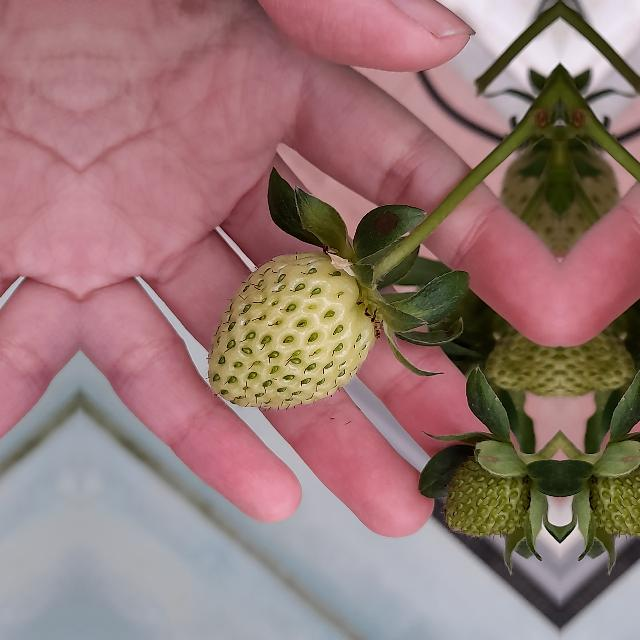Health_25: (208, 250, 376, 410)
